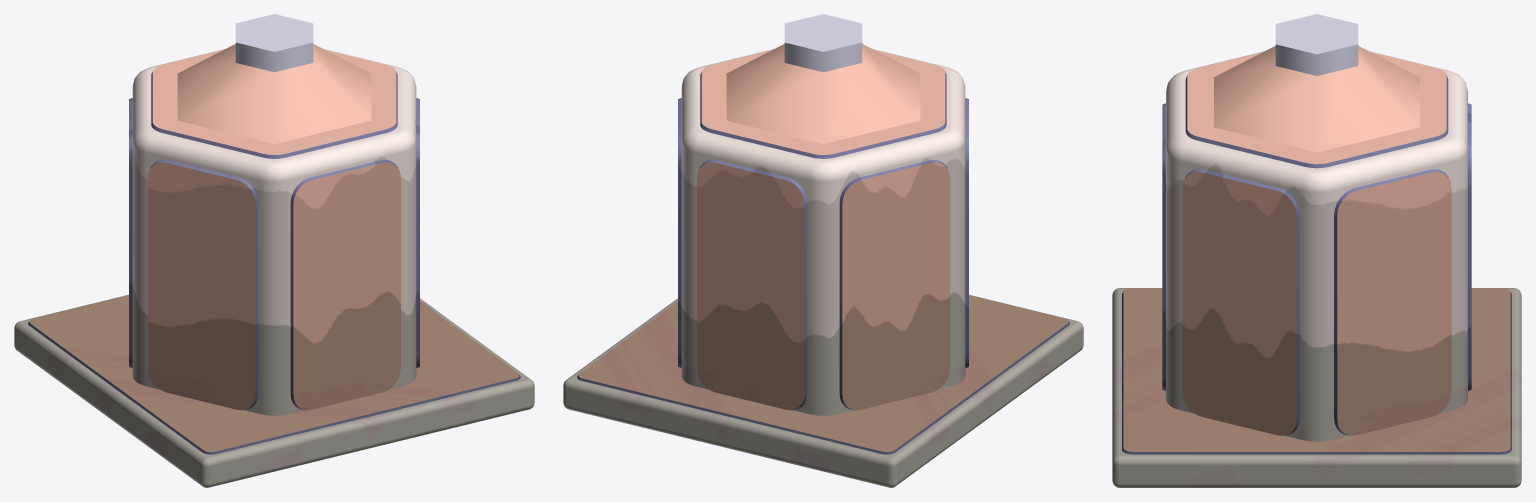
The model's file is R4X_ChargeCapacity.glb.
The picture shows the model from 3 angles, left to right: view 1: azimuth 30°, elevation 25°; view 2: azimuth 150°, elevation 25°; view 3: azimuth 270°, elevation 25°; orthographic projection. The views are drawn at different scales.
Visible parts, largest first — view 1: R4X_ChargeCapacity_Body; view 2: R4X_ChargeCapacity_Body; view 3: R4X_ChargeCapacity_Body.
Boxes of the visible parts, x1,y1,x2,y2 form: R4X_ChargeCapacity_Body: [14, 14, 534, 487]; R4X_ChargeCapacity_Body: [563, 14, 1083, 487]; R4X_ChargeCapacity_Body: [1112, 14, 1521, 487].
Size of the model in its own units: 0.514 by 0.515 by 0.514.
5 materials, 4 textured.
